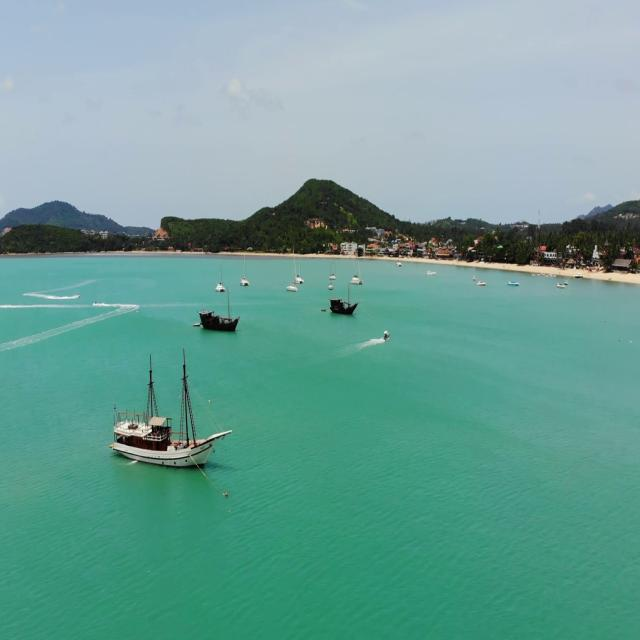fishing boat: (90, 361, 232, 468), (184, 286, 240, 333), (324, 285, 362, 332)
